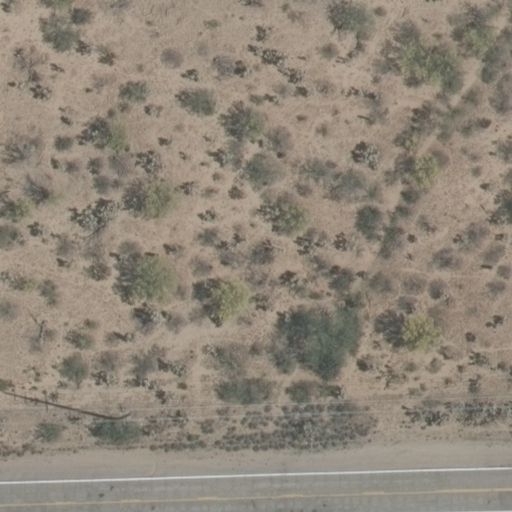DT: (115, 400, 140, 425)
